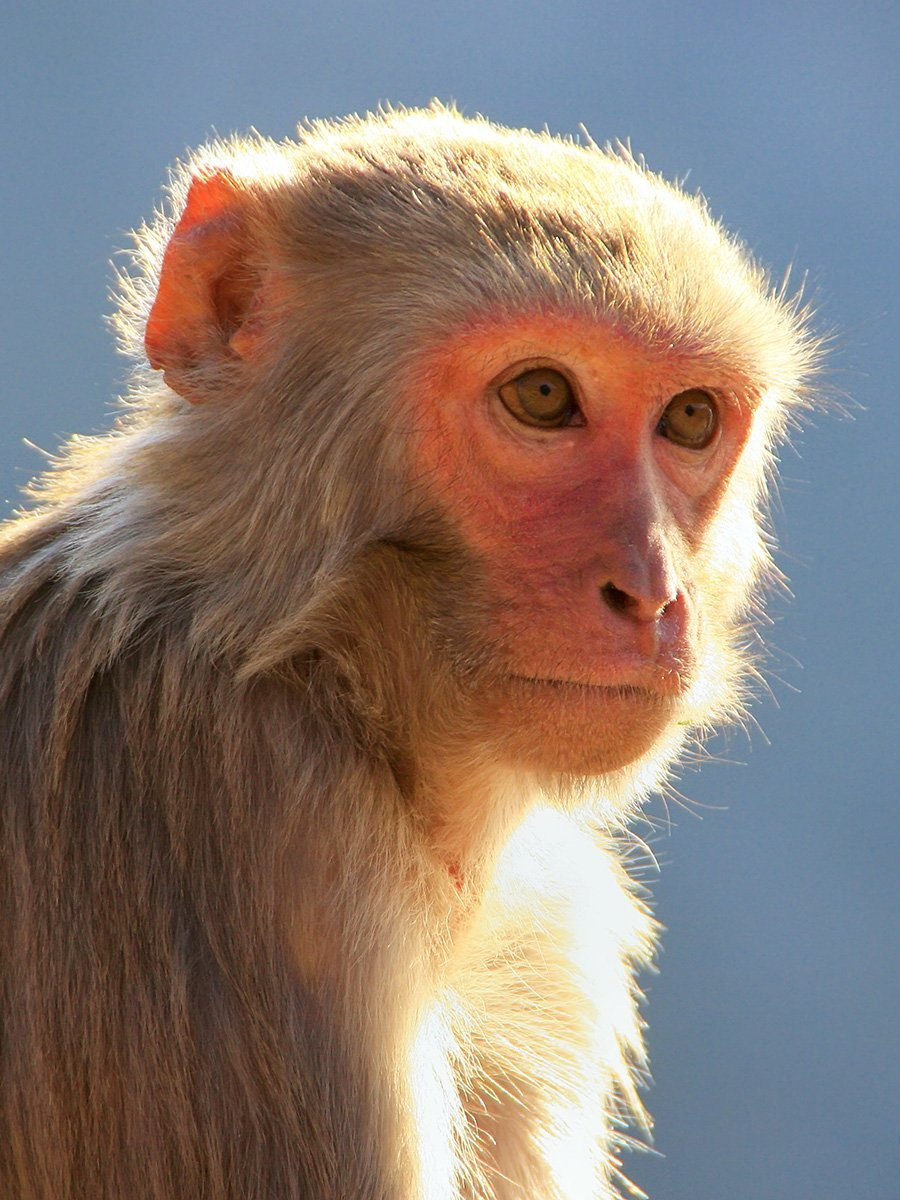monkey: (1, 70, 827, 1200)
